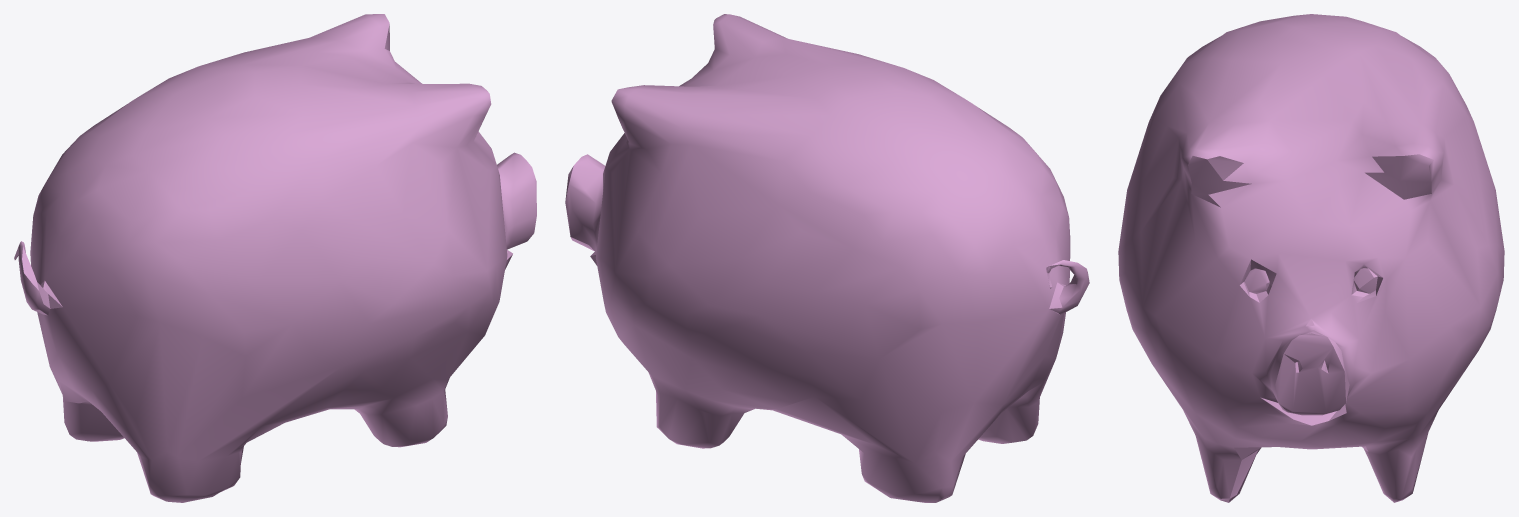
File: Pig.FBX
The picture shows the model from 3 angles, left to right: view 1: azimuth 30°, elevation 25°; view 2: azimuth 150°, elevation 25°; view 3: azimuth 270°, elevation 25°; orthographic projection. The views are drawn at different scales.
Visible parts, largest first — view 1: Pig; view 2: Pig; view 3: Pig.
Part boxes in pixels (x1=…): Pig: x1=14, y1=14, x2=536, y2=502; Pig: x1=565, y1=14, x2=1089, y2=502; Pig: x1=1118, y1=14, x2=1504, y2=502.
Bounding box in the file's own units: 32.6 × 22.44 × 20.14.
